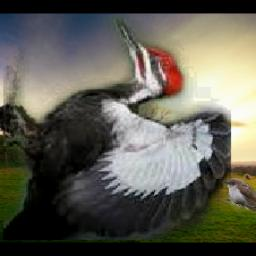Cuckoo: (222, 178, 256, 234)
Woodpecker: (5, 16, 232, 241)
